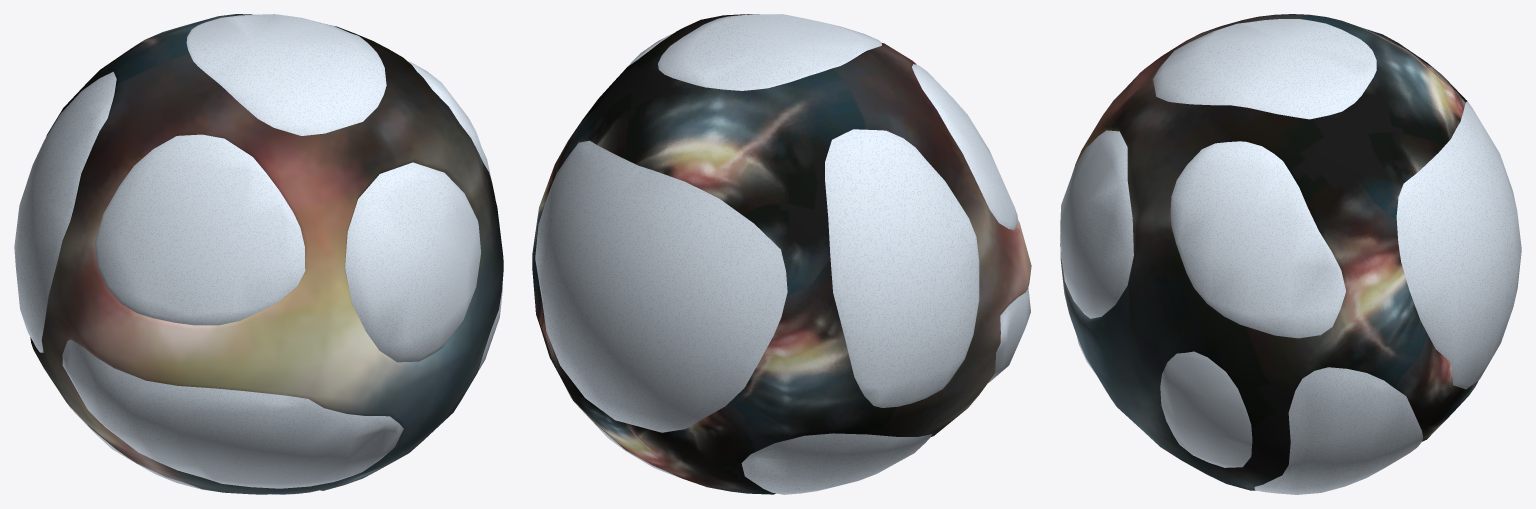
Rendered from SnowIceRelayPlanet.fbx.
The picture shows the model from 3 angles, left to right: view 1: azimuth 30°, elevation 25°; view 2: azimuth 150°, elevation 25°; view 3: azimuth 270°, elevation 25°; orthographic projection. The views are drawn at different scales.
Parts seen in each view (by area): view 1: Sphere.009, Sphere.002; view 2: Sphere.009, Sphere.002; view 3: Sphere.009, Sphere.002.
Boxes of the visible parts, x1,y1,x2,y2 form: Sphere.009: (14,14,502,494); Sphere.002: (30,14,503,494); Sphere.009: (535,14,1030,494); Sphere.002: (532,14,1031,494); Sphere.009: (1060,19,1521,494); Sphere.002: (1060,14,1478,490).
Size of the model in its own units: 202597 by 197062 by 198419.
Materials: 3 (3 with a texture image).
